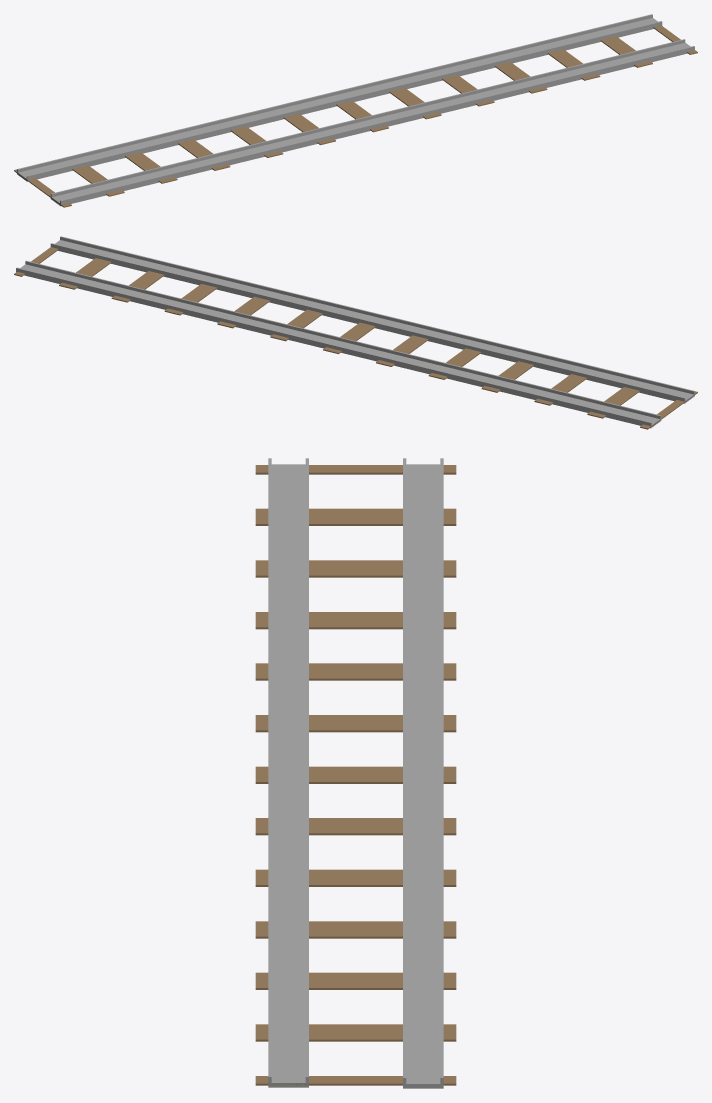
The model's file is MinecartTrack.fbx.
3 views of the same model, one above another, from view 1: azimuth 30°, elevation 25°; view 2: azimuth 150°, elevation 25°; view 3: azimuth 270°, elevation 25° (orthographic). The views are drawn at different scales.
Parts seen in each view (by area): view 1: Track15; view 2: Track15; view 3: Track15.
Part boxes in pixels (x1,y1,x2,y2): Track15: (14,14,697,207); Track15: (14,236,697,429); Track15: (255,458,456,1088).
Bounding box in the file's own units: 12.02 × 0.097 × 1.64.
